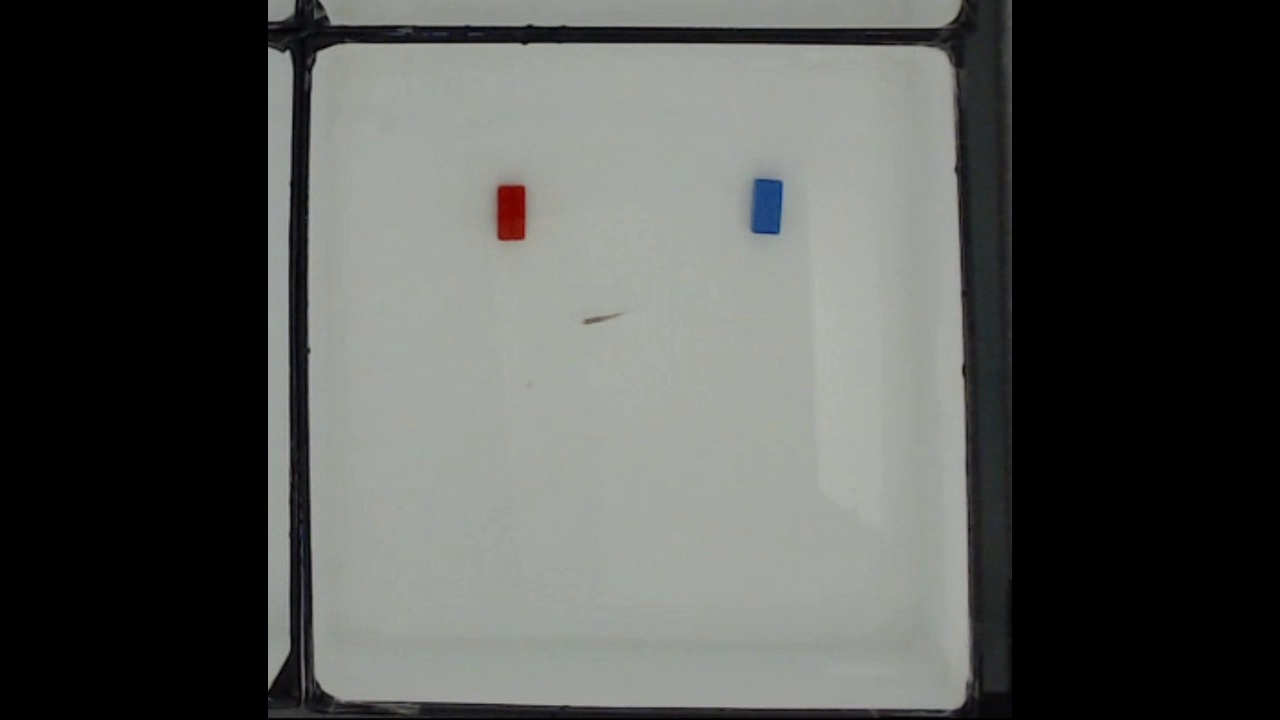fish: (578, 306, 631, 331)
